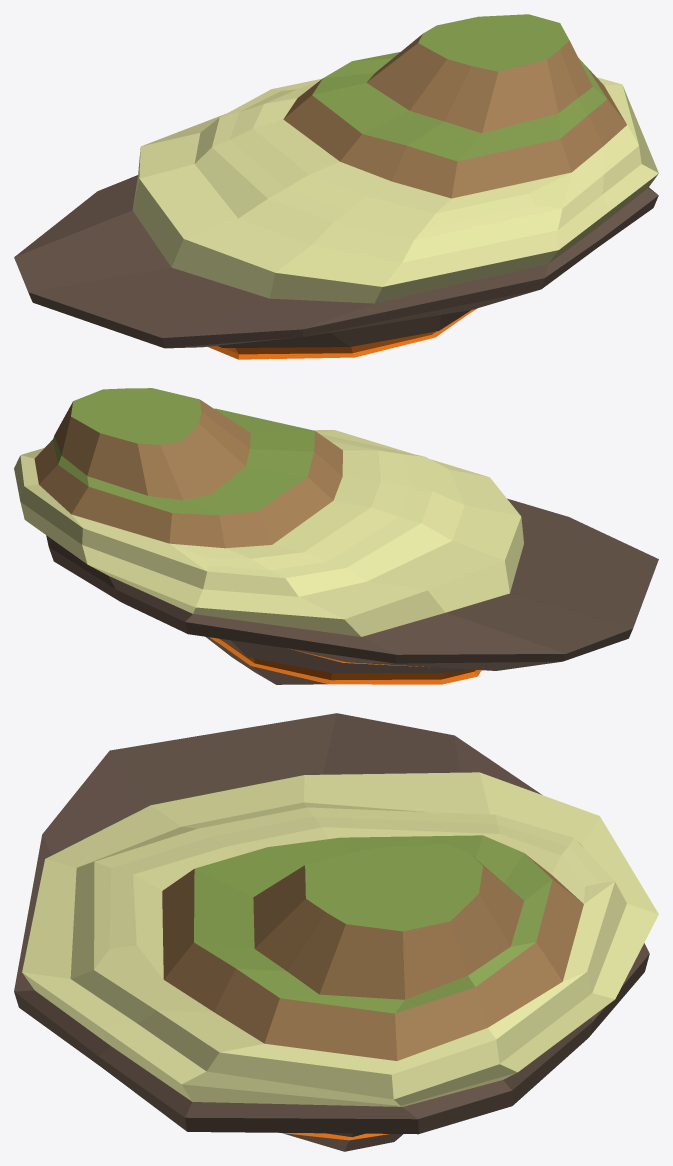
Rendered from nature_terrain_03.fbx.
3 views of the same model, one above another, from view 1: azimuth 30°, elevation 25°; view 2: azimuth 150°, elevation 25°; view 3: azimuth 270°, elevation 25° (orthographic). The views are drawn at different scales.
Parts seen in each view (by area): view 1: Circle, Circle.001; view 2: Circle, Circle.001; view 3: Circle, Circle.001.
Part boxes in pixels (x1,y1,x2,y2): Circle: [132, 14, 658, 303]; Circle.001: [14, 175, 658, 359]; Circle: [14, 388, 523, 636]; Circle.001: [46, 498, 658, 684]; Circle: [22, 772, 658, 1106]; Circle.001: [14, 713, 649, 1151].
Bounding box in the file's own units: 7066 × 2740 × 4506.
